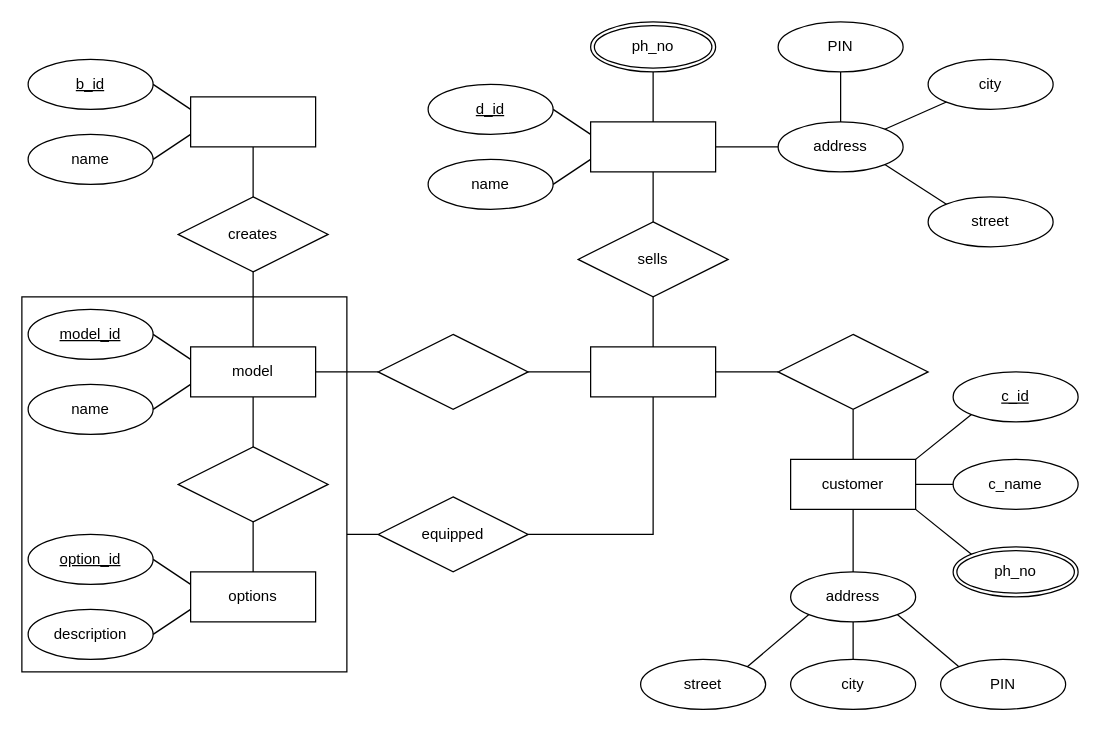
The diagram is 1100 pixels wide and 731 high, and some of its shapes have lost their labels. The shapes that lost their labels are listed below. From the top down, each one's centre as x and y in pixels, then its label:
At [252,121]: "brand".
At [652,146]: "dealer".
At [452,371]: "has".
At [652,371]: "vehicle".
At [852,371]: "buys".
At [252,484]: "features".
